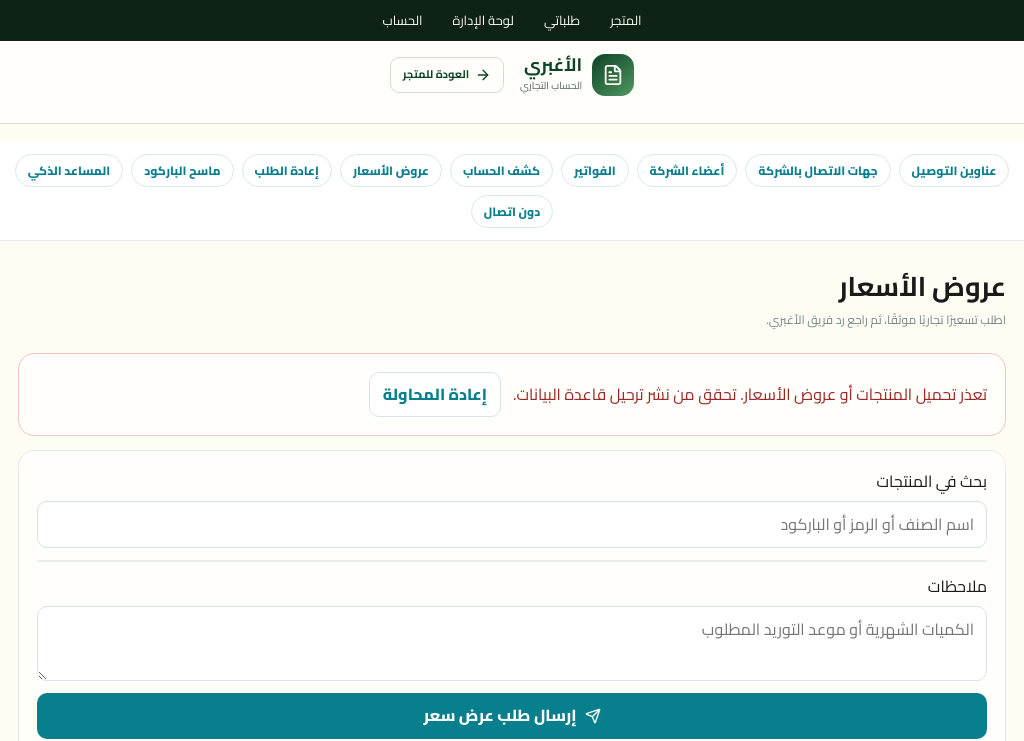
Test: customer quotes real route acceptance › recovers from a product-source failure through the visible retry action
This screenshot has width=1024, height=741.
Check: the message shows "تعذر تحميل المنتجات أو عروض الأسعار", box x1=513 y1=379 x2=987 y2=409
Check: the text "SKU-QUOTE-01" is not shown
Click the button "إعادة المحاولة" at (435, 394), box x1=369 y1=372 x2=501 y2=417
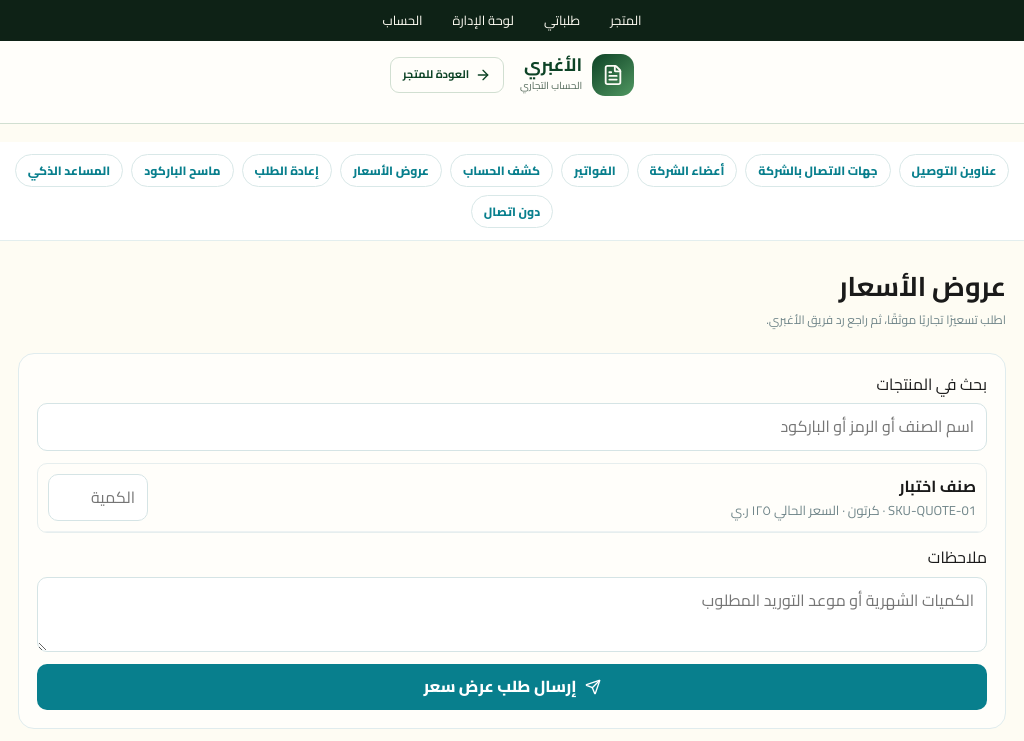
Check: the message is gone
Check: the text "SKU-QUOTE-01" is shown, box x1=888 y1=498 x2=976 y2=522
Check: the text "السعر الحالي" is shown, box x1=771 y1=498 x2=848 y2=522
